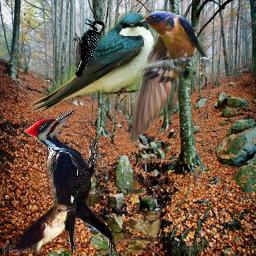Cuckoo: (7, 204, 76, 255)
Swallow: (29, 12, 157, 113), (128, 9, 212, 142)
Woodpecker: (23, 109, 118, 256), (71, 18, 106, 77)
